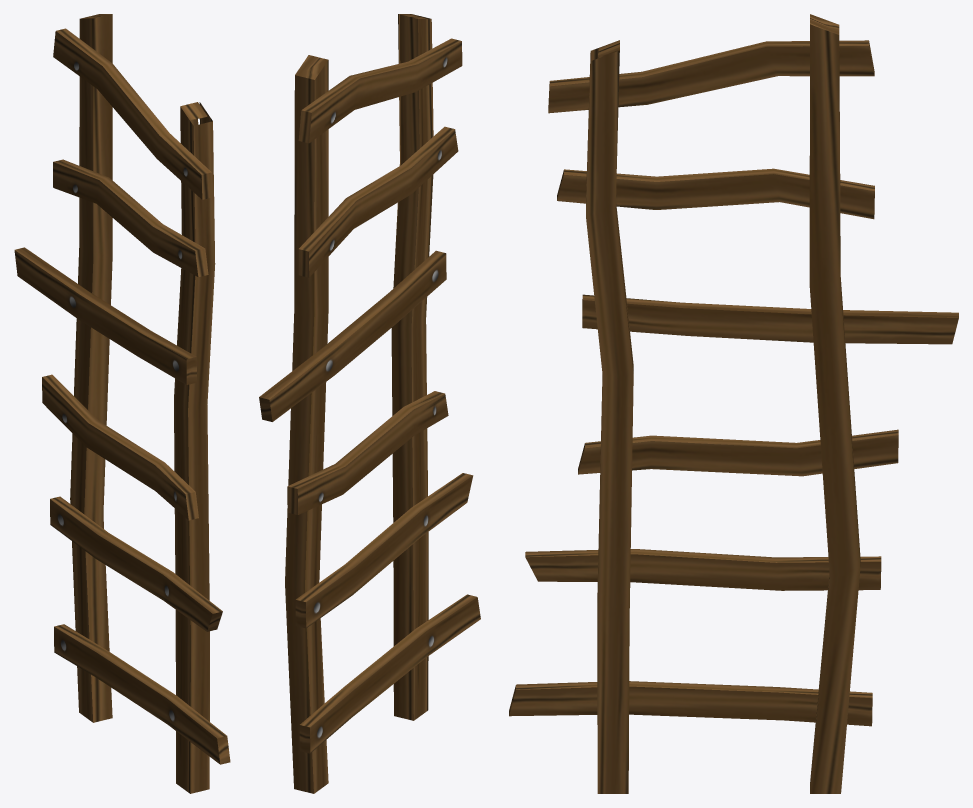
File: Ladder02.fbx
The picture shows the model from 3 angles, left to right: view 1: azimuth 30°, elevation 25°; view 2: azimuth 150°, elevation 25°; view 3: azimuth 270°, elevation 25°; orthographic projection. The views are drawn at different scales.
Parts seen in each view (by area): view 1: Ladder02; view 2: Ladder02; view 3: Ladder02.
Part boxes in pixels (box(x1,y1,x2,y2)): Ladder02: box(14, 14, 230, 793); Ladder02: box(259, 14, 480, 793); Ladder02: box(509, 14, 958, 793).
Bounding box in the file's own units: 4.81 × 108 × 57.17.
